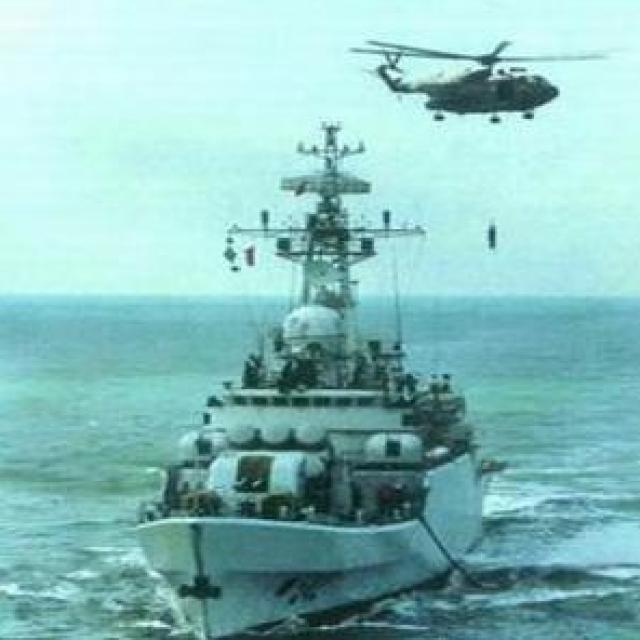navalvessels: (137, 119, 494, 627)
